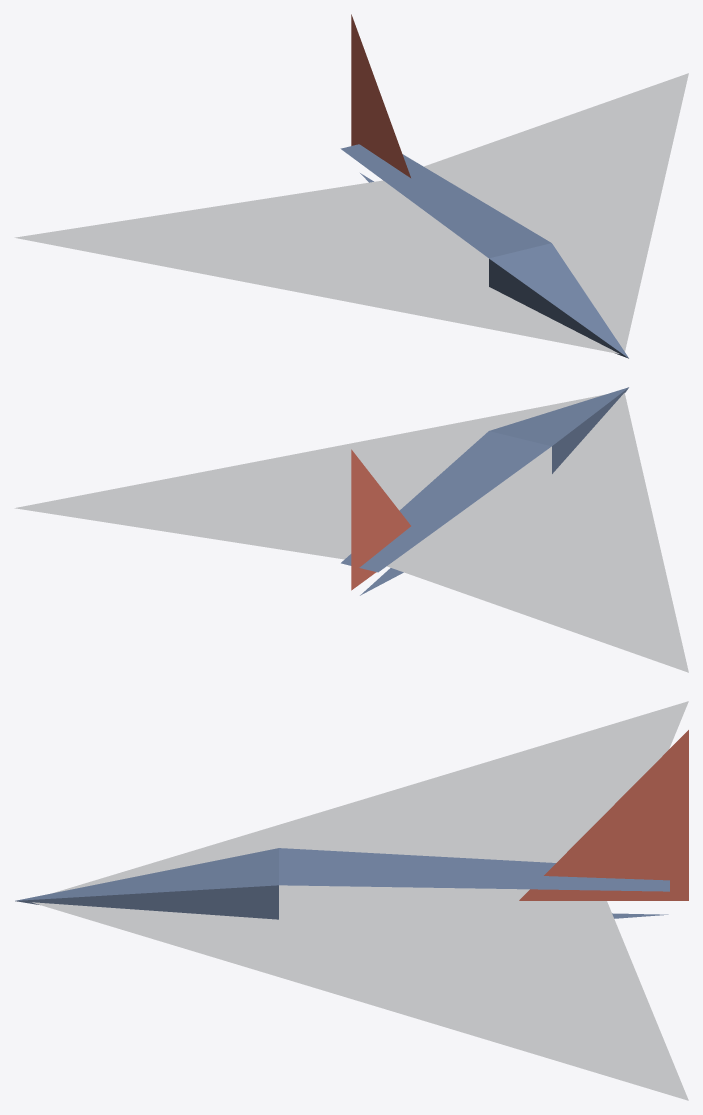
File: caymaz.gltf
3 renders of one model, top to bottom at view 1: azimuth 30°, elevation 25°; view 2: azimuth 150°, elevation 25°; view 3: azimuth 270°, elevation 25°, orthographic. The views are drawn at different scales.
Visible parts, largest first — view 1: CAYMAZ; view 2: CAYMAZ; view 3: CAYMAZ.
Boxes of the visible parts, left/top/right/bottom form: CAYMAZ: left=14, top=14, right=688, bottom=358; CAYMAZ: left=14, top=387, right=688, bottom=672; CAYMAZ: left=15, top=701, right=688, bottom=1100.
Size of the model in its own units: 1.5 by 0.342 by 1.07.
